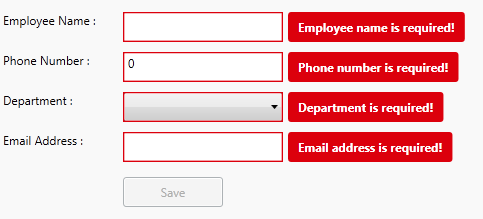error_field: (121, 91, 284, 123), (122, 11, 284, 43), (122, 52, 284, 84), (122, 131, 284, 163)
error_message: (295, 19, 455, 35), (299, 60, 450, 76), (296, 140, 443, 154), (294, 101, 435, 114)
